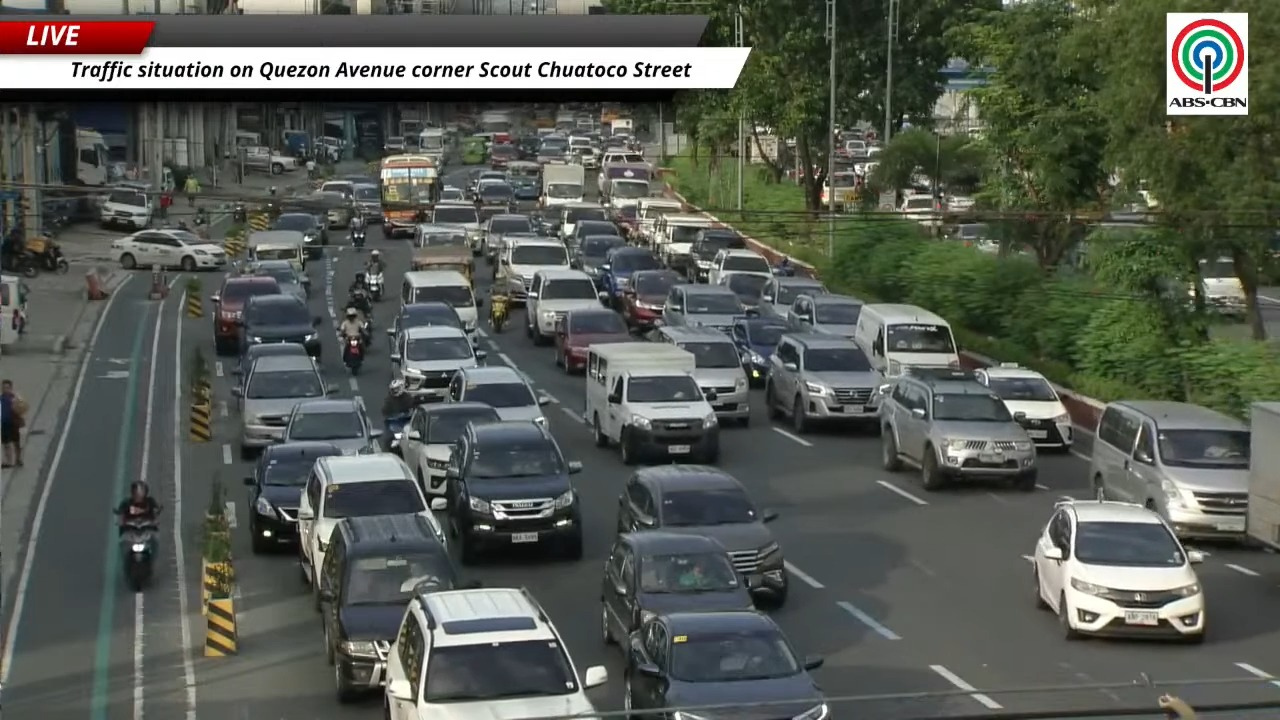bus: (379, 154, 440, 237)
car: (384, 588, 607, 719), (319, 515, 458, 702), (1032, 500, 1206, 642), (1089, 400, 1265, 539), (617, 465, 787, 606), (298, 453, 446, 608), (623, 610, 828, 719), (879, 367, 1037, 491), (445, 422, 582, 563), (601, 531, 754, 643), (765, 332, 882, 433), (244, 442, 341, 553), (231, 355, 335, 458), (645, 326, 750, 425), (400, 402, 500, 494), (975, 363, 1073, 451), (389, 325, 486, 400), (449, 365, 550, 426), (525, 268, 603, 343), (280, 397, 378, 454), (210, 275, 280, 354), (238, 294, 320, 357), (554, 307, 631, 373), (494, 236, 568, 303), (111, 229, 226, 271), (663, 284, 747, 332), (598, 245, 662, 308), (730, 317, 788, 385), (619, 269, 682, 330), (386, 301, 464, 347), (787, 293, 864, 338), (685, 227, 745, 282), (232, 343, 310, 382), (760, 276, 827, 319), (428, 201, 482, 254), (270, 212, 328, 257), (572, 235, 625, 283), (248, 260, 309, 300), (482, 213, 534, 259), (101, 186, 154, 230), (707, 248, 772, 283), (716, 273, 768, 311), (557, 201, 607, 240), (306, 191, 356, 228), (565, 218, 621, 247), (476, 181, 516, 217), (413, 223, 468, 249), (353, 183, 382, 223), (471, 170, 507, 193), (488, 144, 520, 169), (511, 175, 540, 201), (337, 174, 378, 186), (440, 186, 464, 201)
motorcycle: (119, 519, 157, 591), (26, 236, 69, 273), (344, 300, 372, 345), (384, 413, 410, 454), (5, 250, 39, 278), (343, 336, 363, 375), (489, 294, 509, 332), (366, 273, 384, 301), (351, 227, 366, 249), (232, 202, 246, 223), (772, 263, 794, 276), (193, 208, 208, 226)
truck: (584, 343, 719, 464), (1245, 401, 1279, 549), (76, 128, 116, 186), (540, 164, 584, 209), (241, 146, 298, 174), (418, 128, 449, 165), (281, 129, 313, 156), (478, 110, 513, 133)
